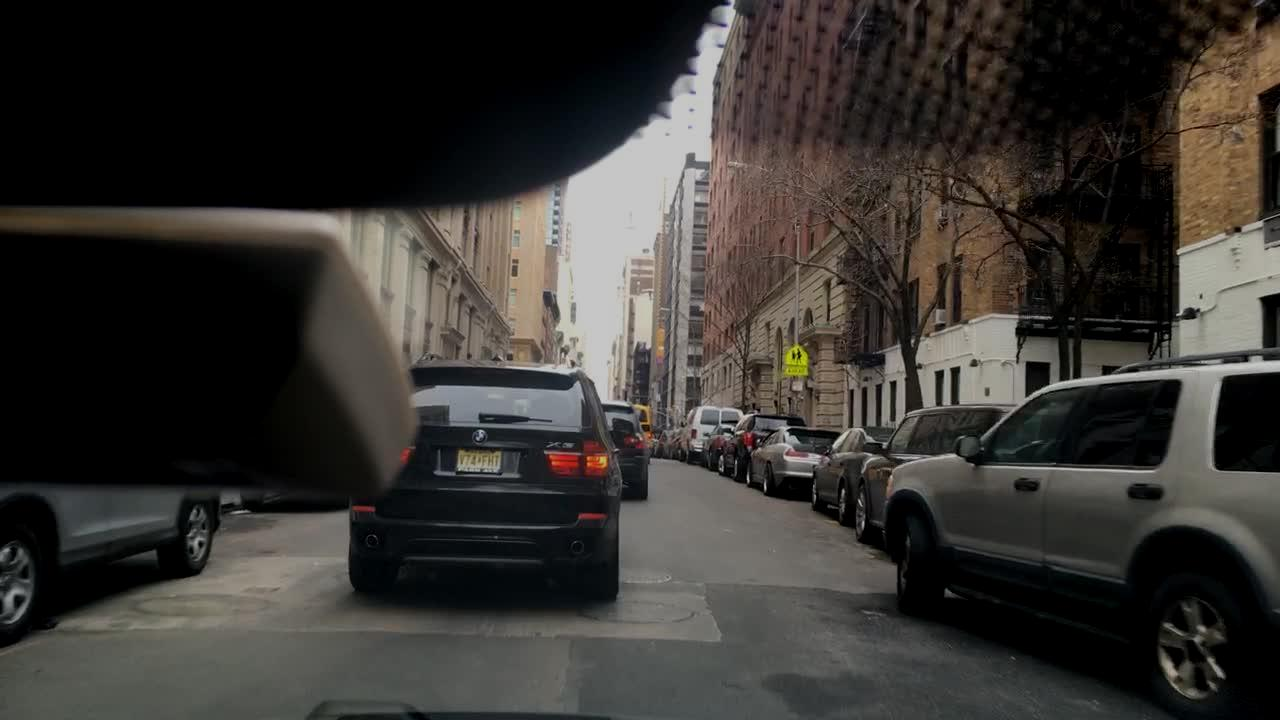bmw: (469, 426, 492, 447)
